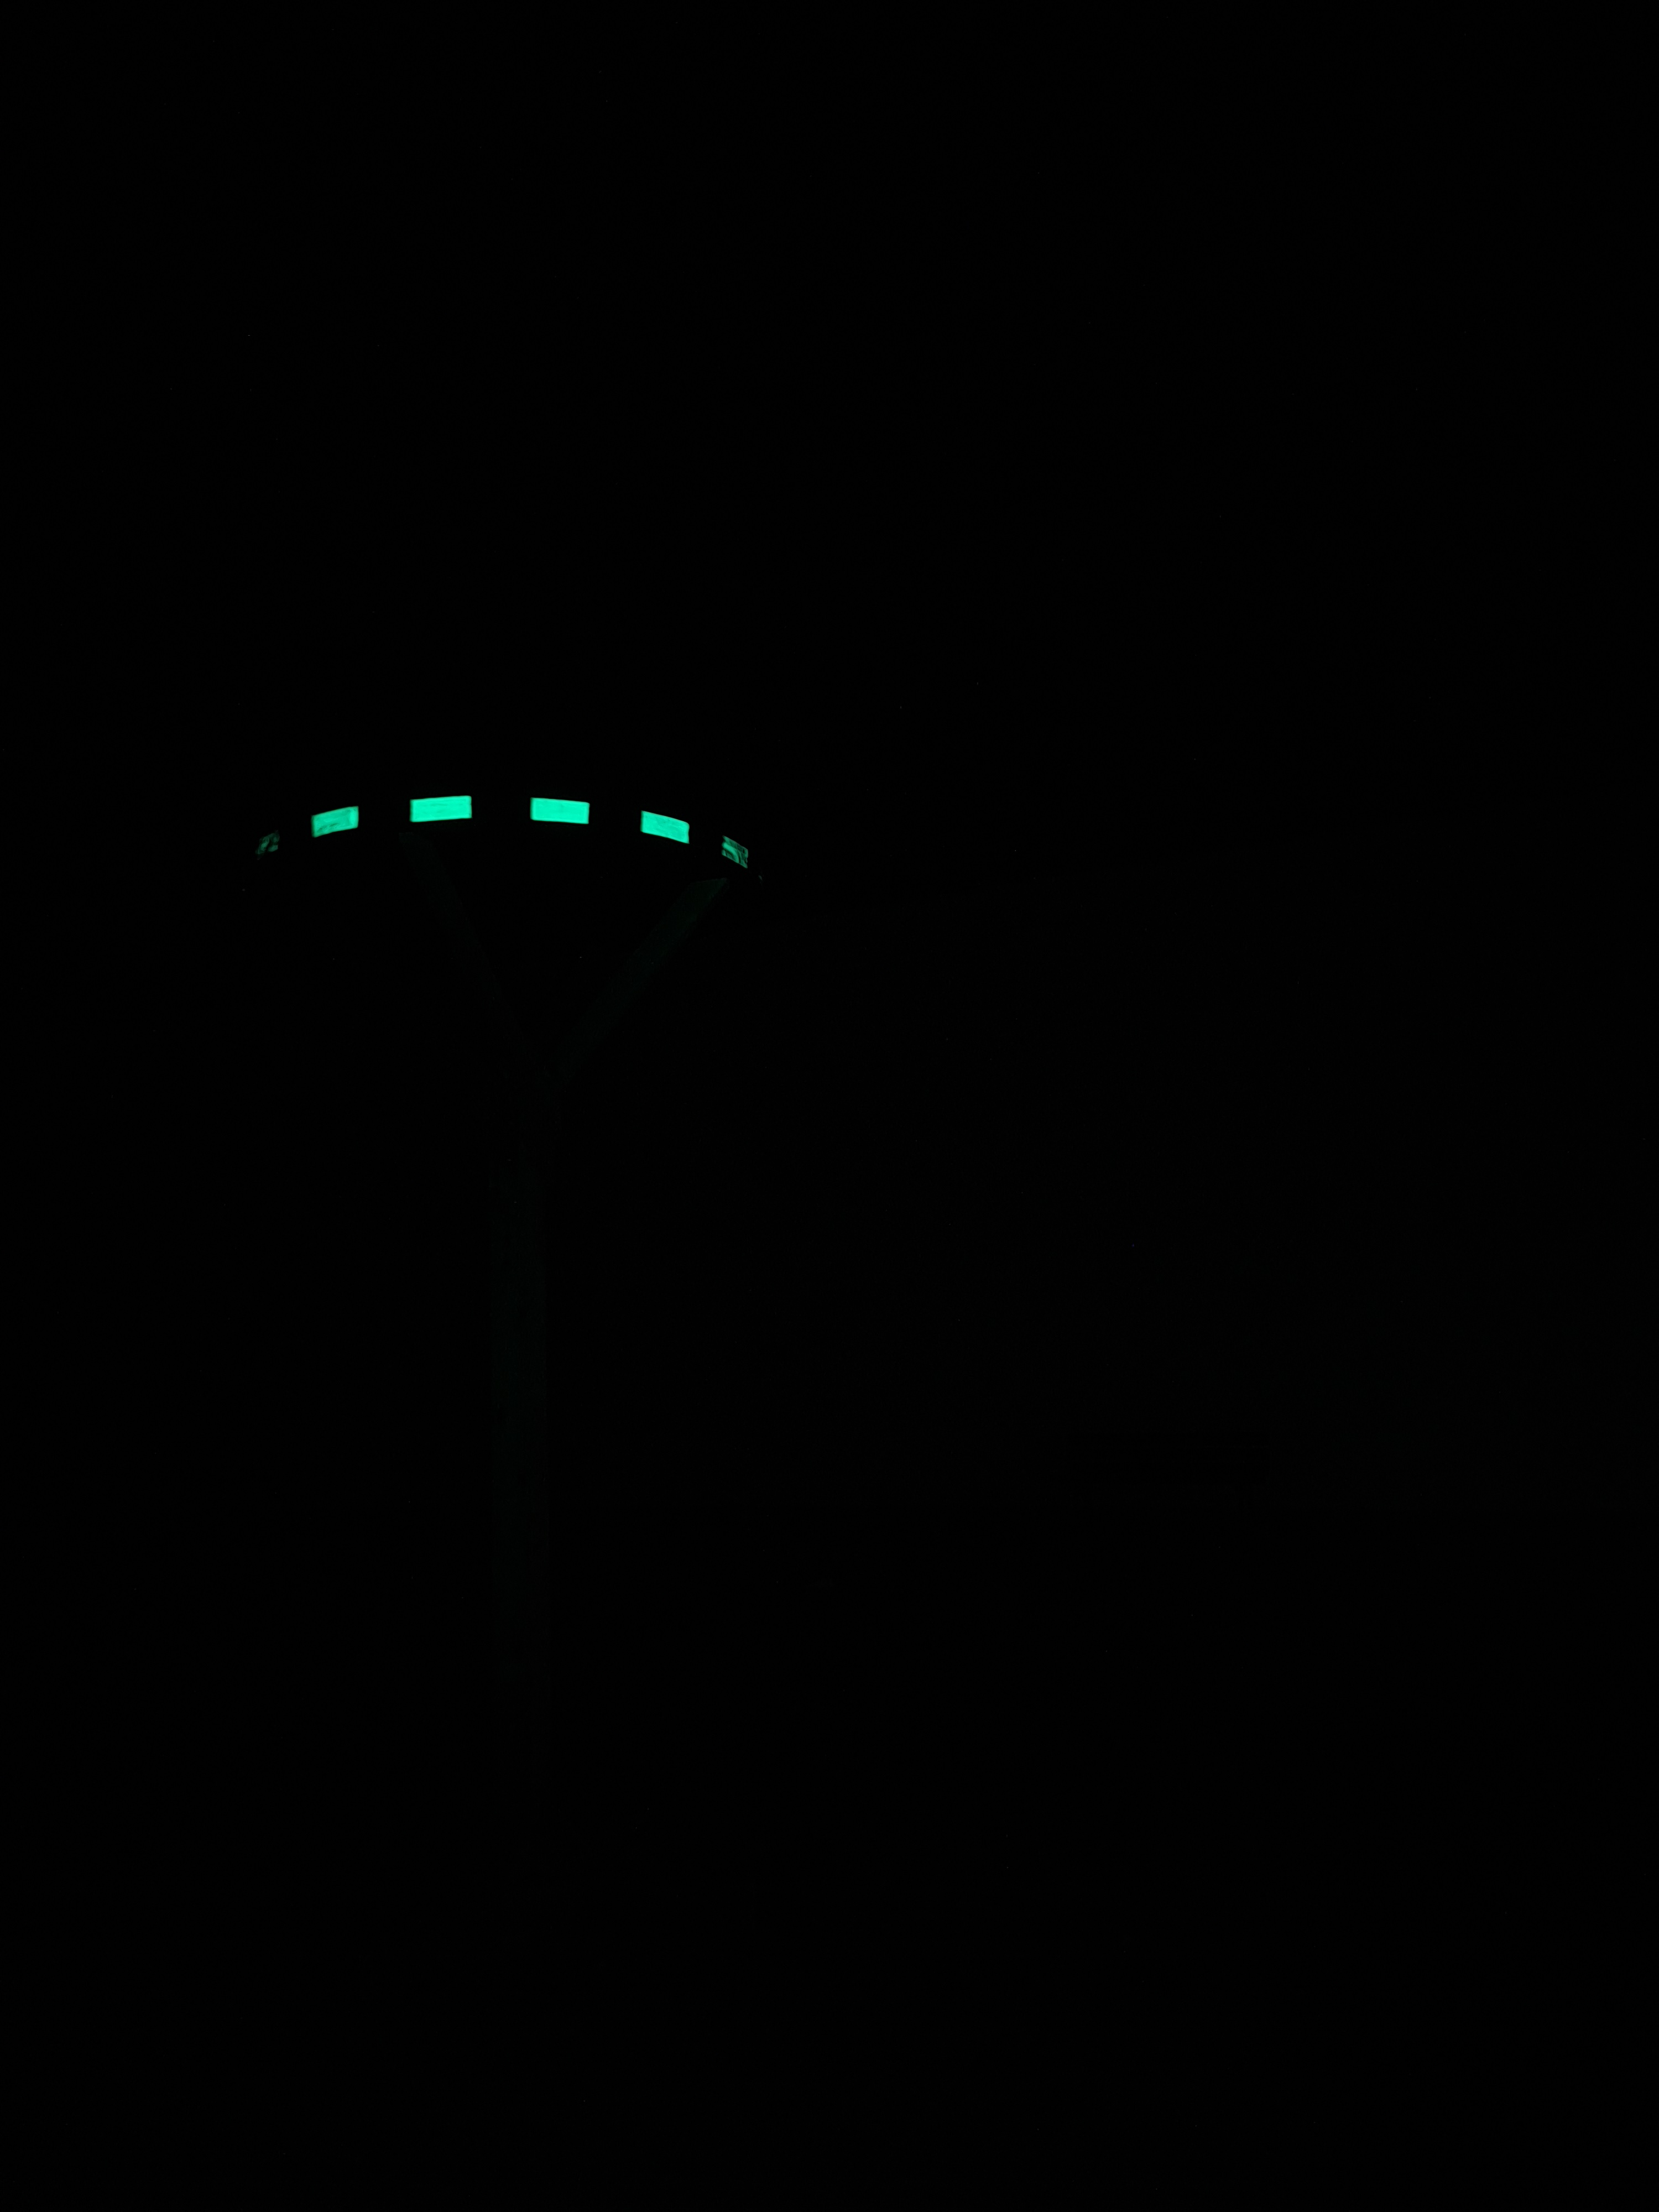hoop: (228, 765, 767, 887)
